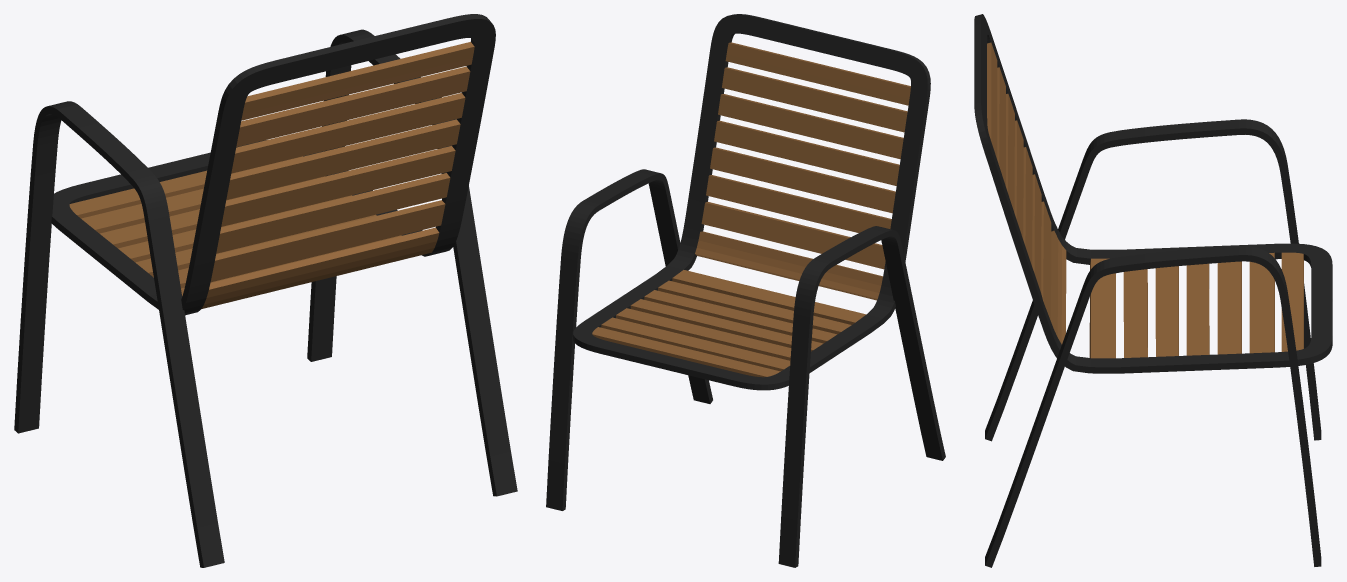
Rendered from bg_chair2.fbx.
3 renders of one model, left to right at view 1: azimuth 30°, elevation 25°; view 2: azimuth 150°, elevation 25°; view 3: azimuth 270°, elevation 25°, orthographic. The views are drawn at different scales.
Visible parts, largest first — view 1: chair2; view 2: chair2; view 3: chair2.
Boxes of the visible parts, x1,y1,x2,y2 form: chair2: (14, 14, 517, 567); chair2: (546, 14, 945, 567); chair2: (974, 14, 1332, 567).
Size of the model in its own units: 272 by 409 by 304.
